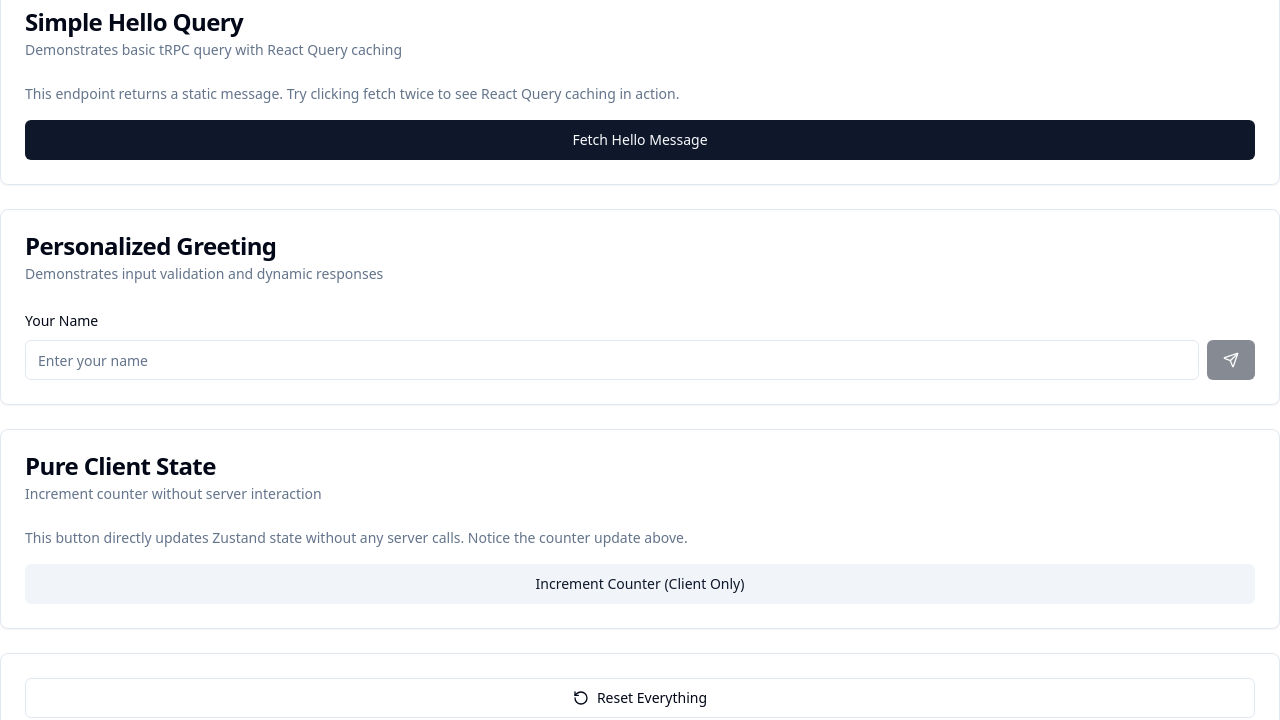
HelloWorld Component › Input Handling › should enable send button when name is entered
(page scrolled)
Type "Bob" into the field with placeholder "Enter your name" at (612, 360), box x1=25 y1=340 x2=1199 y2=380
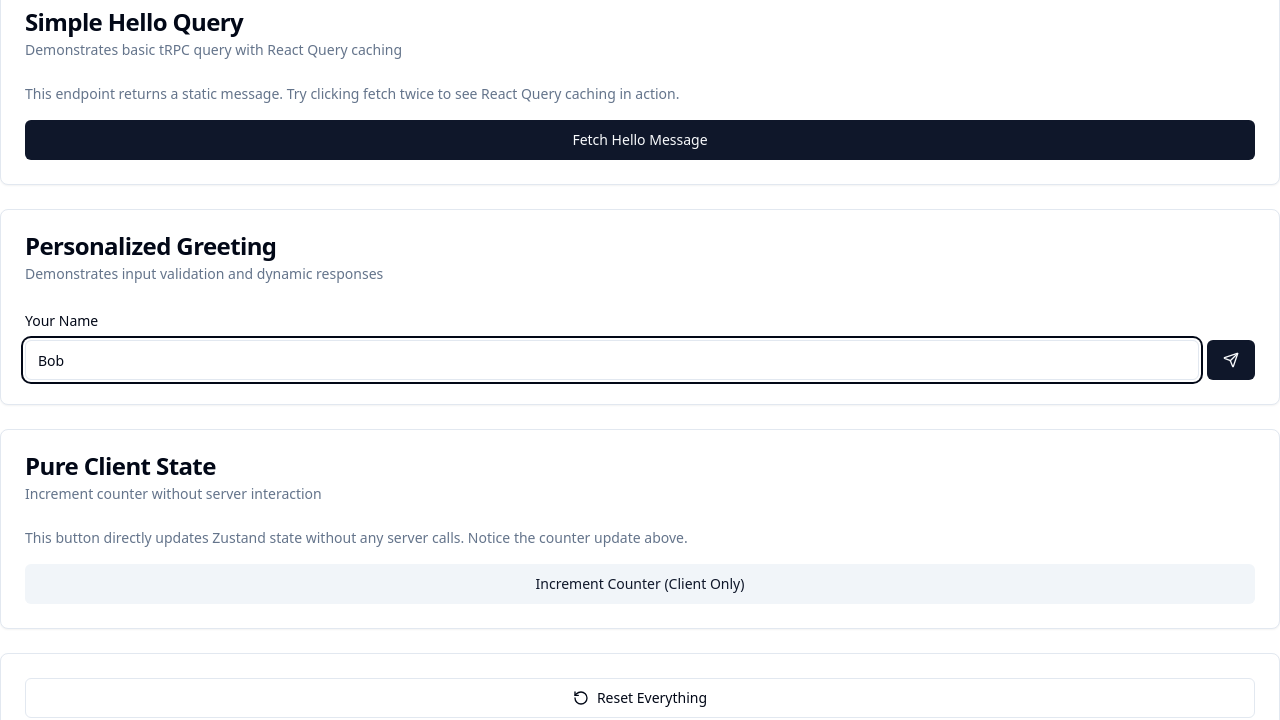
Expected: the 2nd button is enabled, x1=1207 y1=340 x2=1255 y2=380
